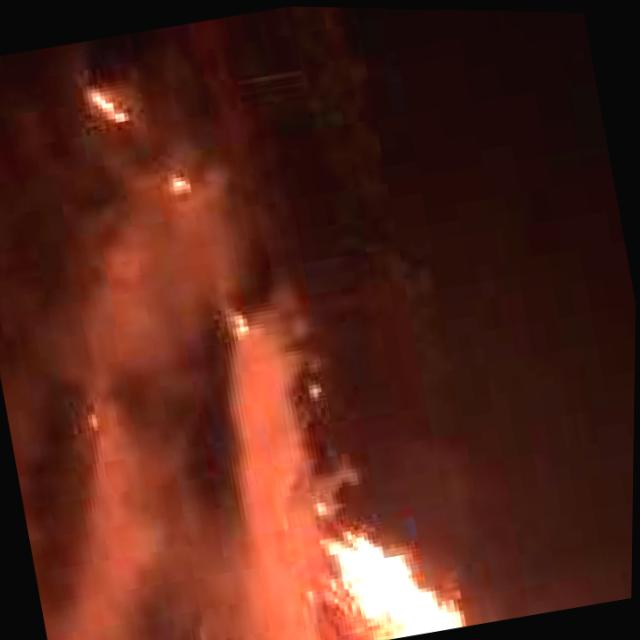smoke: (0, 307, 258, 640)
